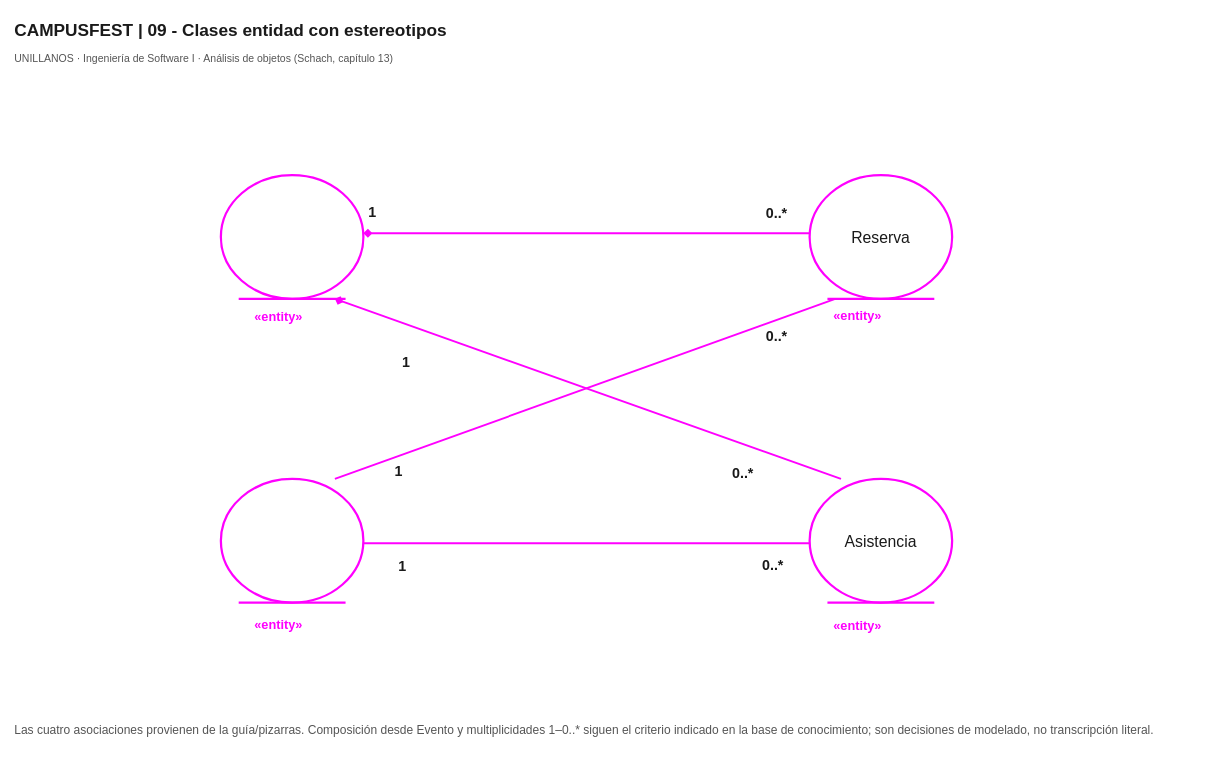
The diagram is 1218 pixels wide and 769 high, and some of its shapes have lost their labels. Each missing label, with the box of its shape:
Estudiante: (219, 477, 364, 603)
Evento: (219, 174, 364, 300)
